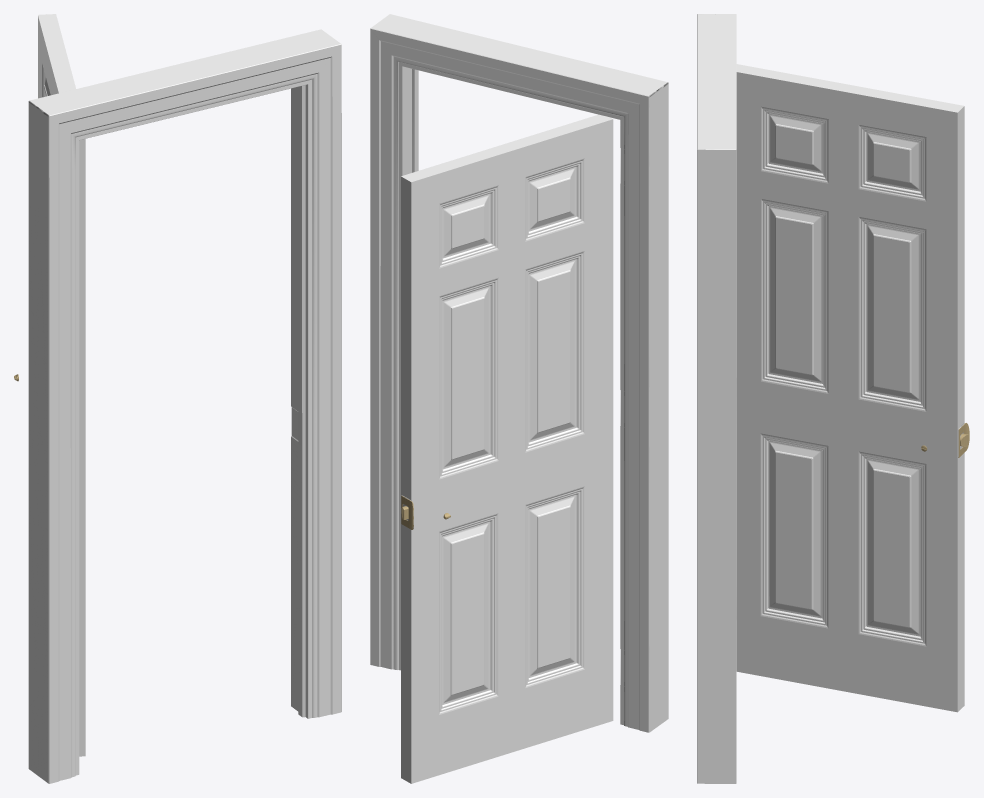
File: panel_interior_door_open.glb
3 views of the same model, side by side, from view 1: azimuth 30°, elevation 25°; view 2: azimuth 150°, elevation 25°; view 3: azimuth 270°, elevation 25° (orthographic). The views are drawn at different scales.
Visible parts, largest first — view 1: doorFrame_geo, doorBase_geo; view 2: doorBase_geo, doorFrame_geo; view 3: doorBase_geo, doorFrame_geo.
Boxes of the visible parts, box(x1,y1,x2,y2) form: doorFrame_geo: box(28, 29, 341, 783); doorBase_geo: box(38, 14, 85, 756); doorBase_geo: box(401, 114, 613, 783); doorFrame_geo: box(370, 14, 668, 732); doorBase_geo: box(736, 64, 964, 712); doorFrame_geo: box(697, 14, 736, 783).
Bounding box in the file's own units: 0.9751 × 2.12 × 0.8257.
Materials: 2 (2 with a texture image).
